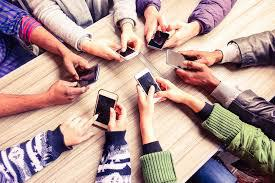Hand: (64, 112, 99, 141), (50, 80, 86, 106), (174, 61, 207, 89), (152, 78, 186, 101), (160, 25, 189, 50), (133, 83, 155, 114), (65, 53, 90, 80), (143, 11, 164, 43), (91, 40, 121, 62), (120, 30, 144, 57), (104, 105, 127, 133), (176, 49, 208, 65)
Smartphone: (91, 86, 114, 125), (137, 67, 160, 106), (66, 65, 106, 87), (150, 28, 173, 52), (160, 53, 188, 71), (114, 43, 134, 56)
